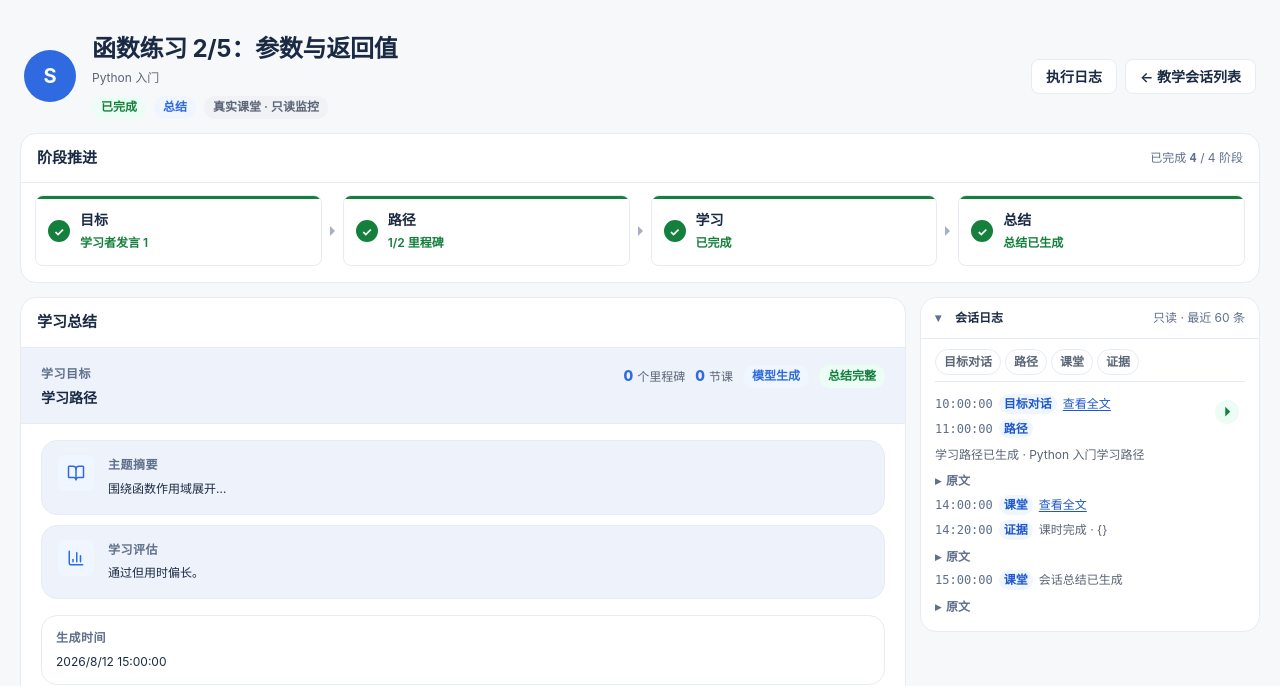
Test: SessionCockpit 双模式 › 同一检查点重答（同 checkpointId）归并为一行，标尝试次数
Click the tab with class "cp-stp" showing "✓ 学习 已完成". click: [714, 243]
box: [650, 195, 937, 266]
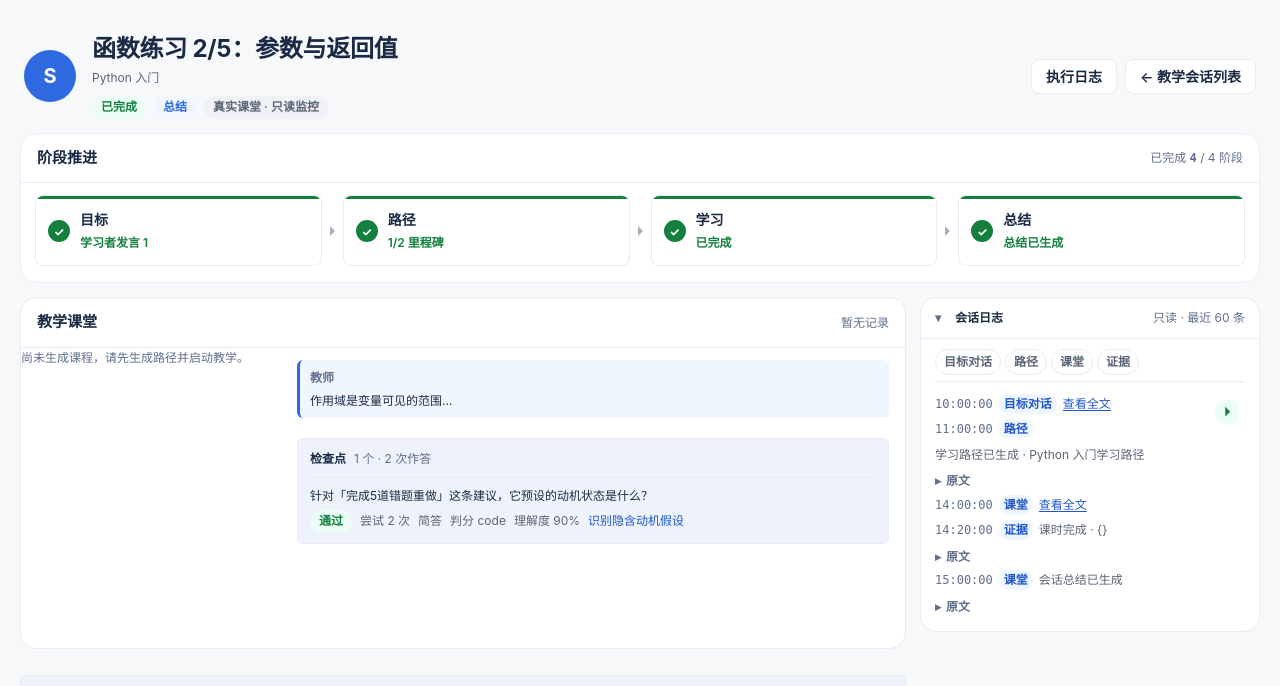
Result: the number of elements with class "cp-checkpoint" is 1 at [310, 477, 876, 533]
Result: the element with class "cp-checkpoints" shows "1 个 · 2 次作答" at [354, 451, 431, 466]
Result: the element with class "cp-checkpoints" shows "尝试 2 次" at [360, 514, 410, 528]
